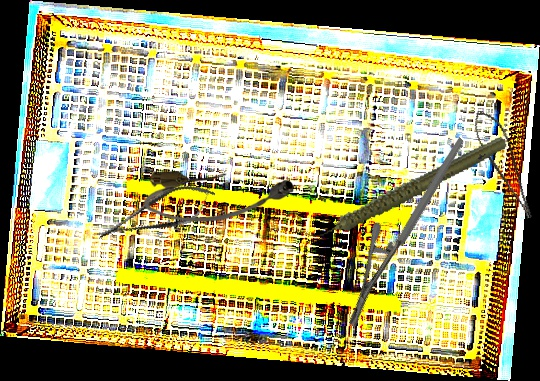Cannula: (144, 171, 295, 222)
Handpiece: (292, 134, 519, 243)
Micro Scissor: (91, 175, 221, 253), (468, 106, 537, 226)
Needle Holder: (303, 136, 511, 329)
